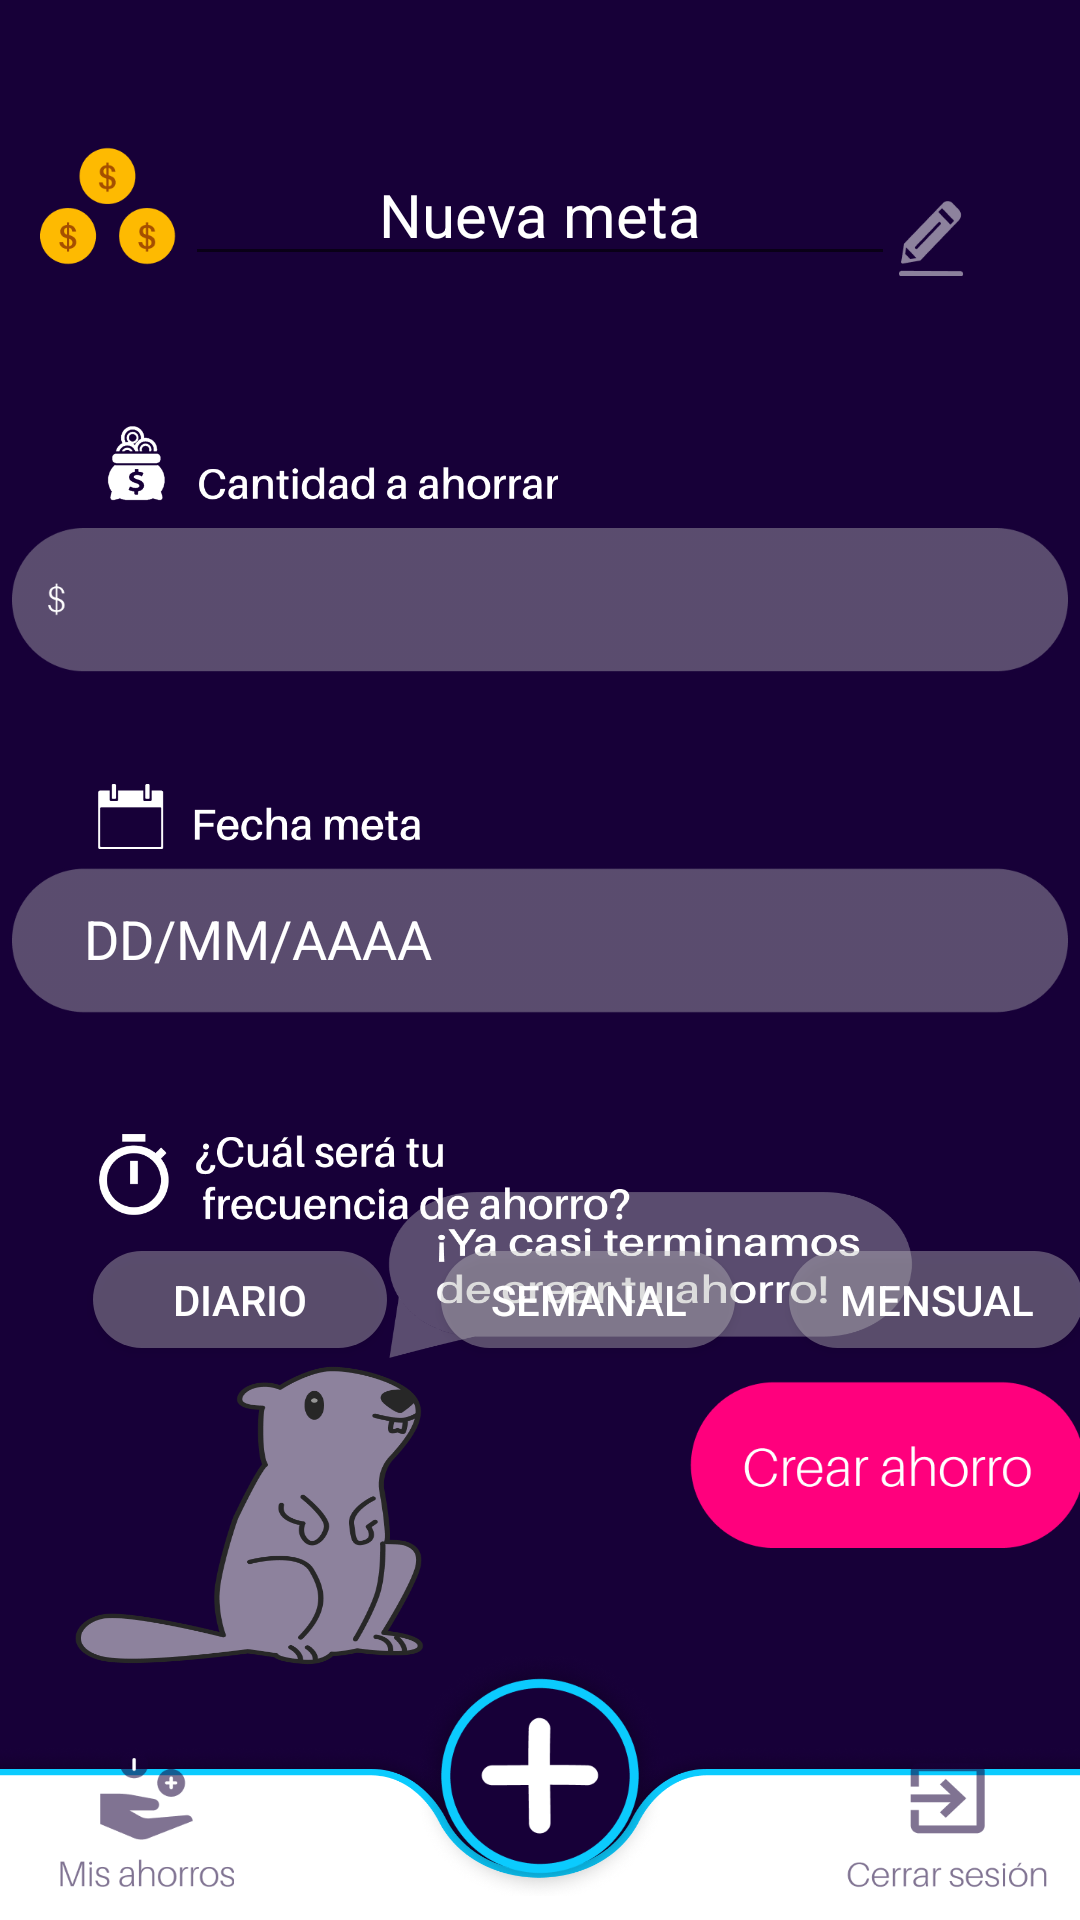

Icons on this 1080 x 1920 Android screen, each with the point to tap as (x=x, y=y):
btnadd: (x=540, y=1776)
lapiz: (x=931, y=238)
moneditas: (x=108, y=206)
